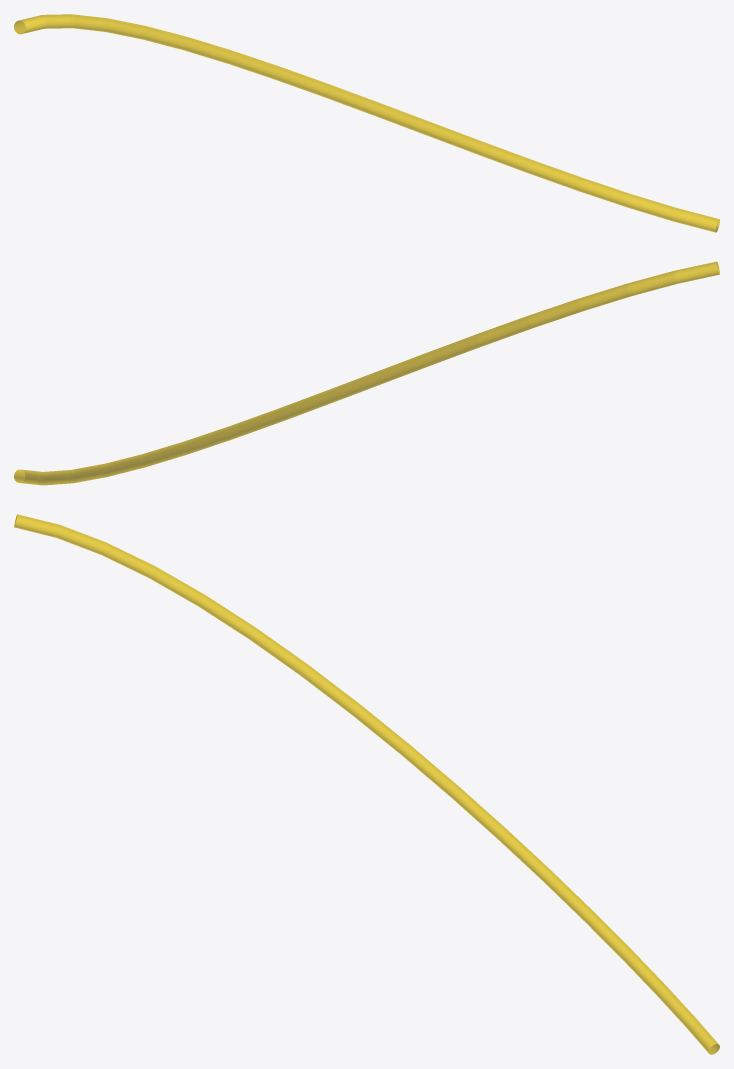
The model's file is Event_17758602_track_101.fbx.
3 renders of one model, top to bottom at view 1: azimuth 30°, elevation 25°; view 2: azimuth 150°, elevation 25°; view 3: azimuth 330°, elevation 25°, orthographic. The views are drawn at different scales.
Parts seen in each view (by area): view 1: Model; view 2: Model; view 3: Model.
Boxes of the visible parts, <box> form: Model: <box>14,14,719,232</box>; Model: <box>14,261,719,485</box>; Model: <box>14,514,719,1054</box>.
Bounding box in the file's own units: 2.36 × 1.23 × 0.3113.
